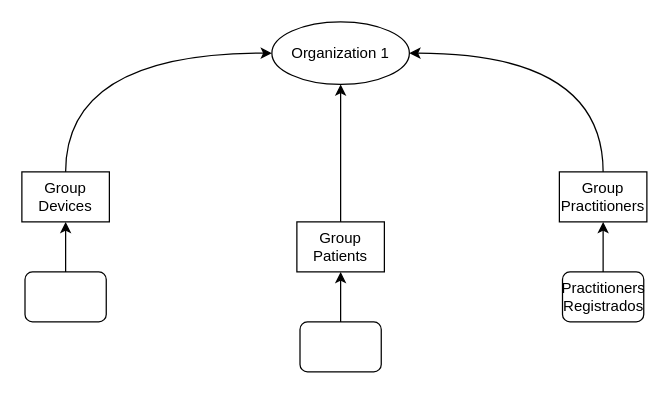
This 669x394 diagram has some shape labels left out. Each missing label, with the centre of its shape:
Devices Criados: (x=65, y=296)
Patients Registrados: (x=340, y=346)
